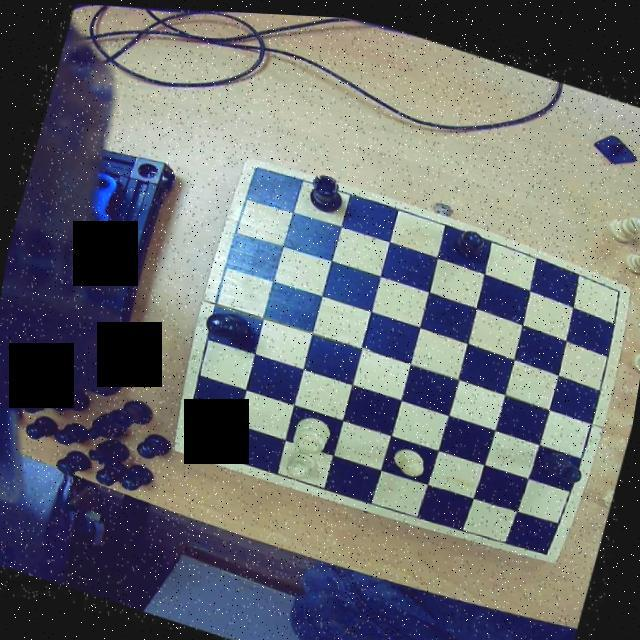chess-table-corners: (243, 155, 272, 183), (528, 535, 560, 558), (172, 426, 200, 452), (605, 276, 631, 300)
